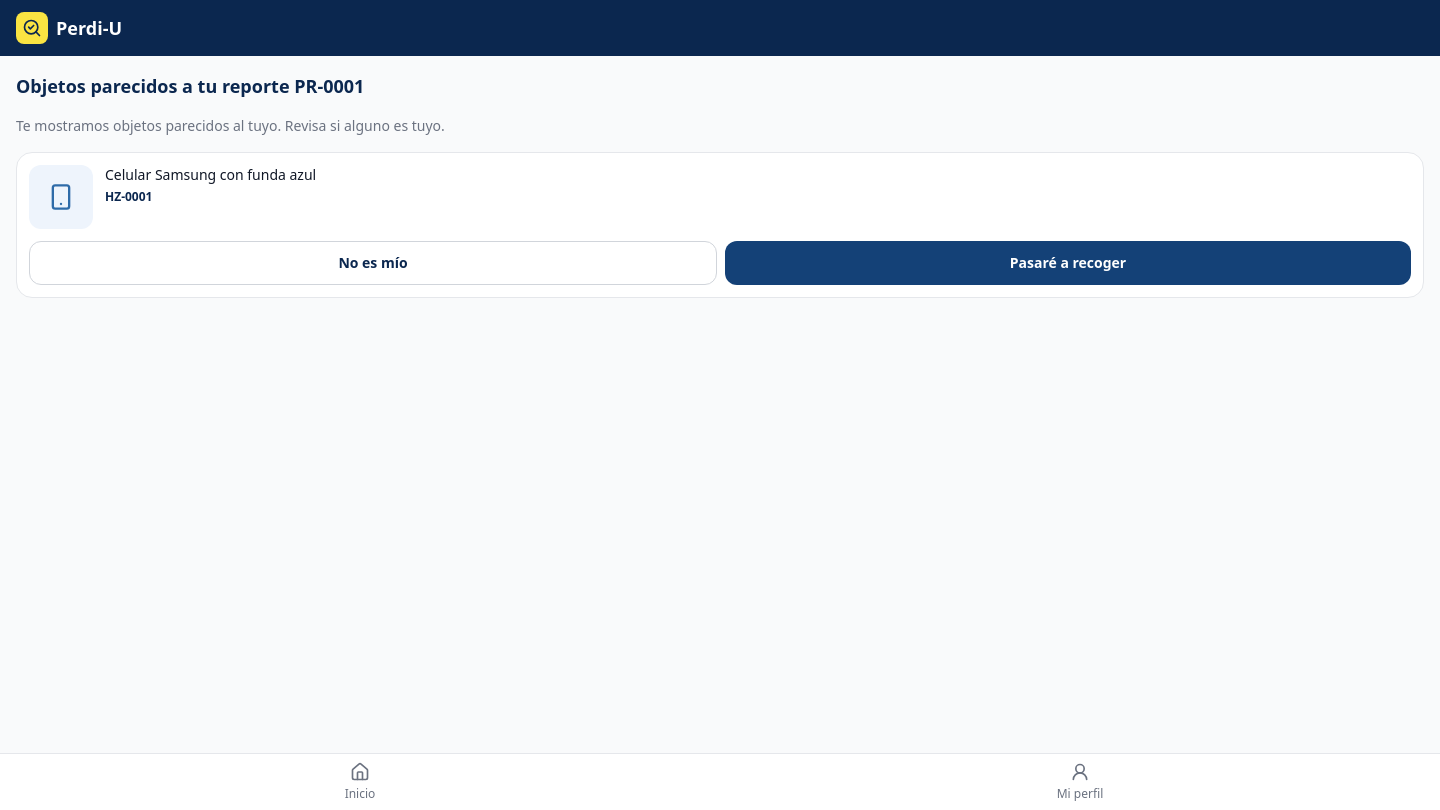
Test case: Navegación de la app › avisa a Bienestar al elegir "Pasaré a recoger" y lo muestra elegido
What coordinates should you click on to do the following:
click the button "Pasaré a recoger"
I would click on:
 (1068, 263)
Its box is [725, 241, 1411, 285].
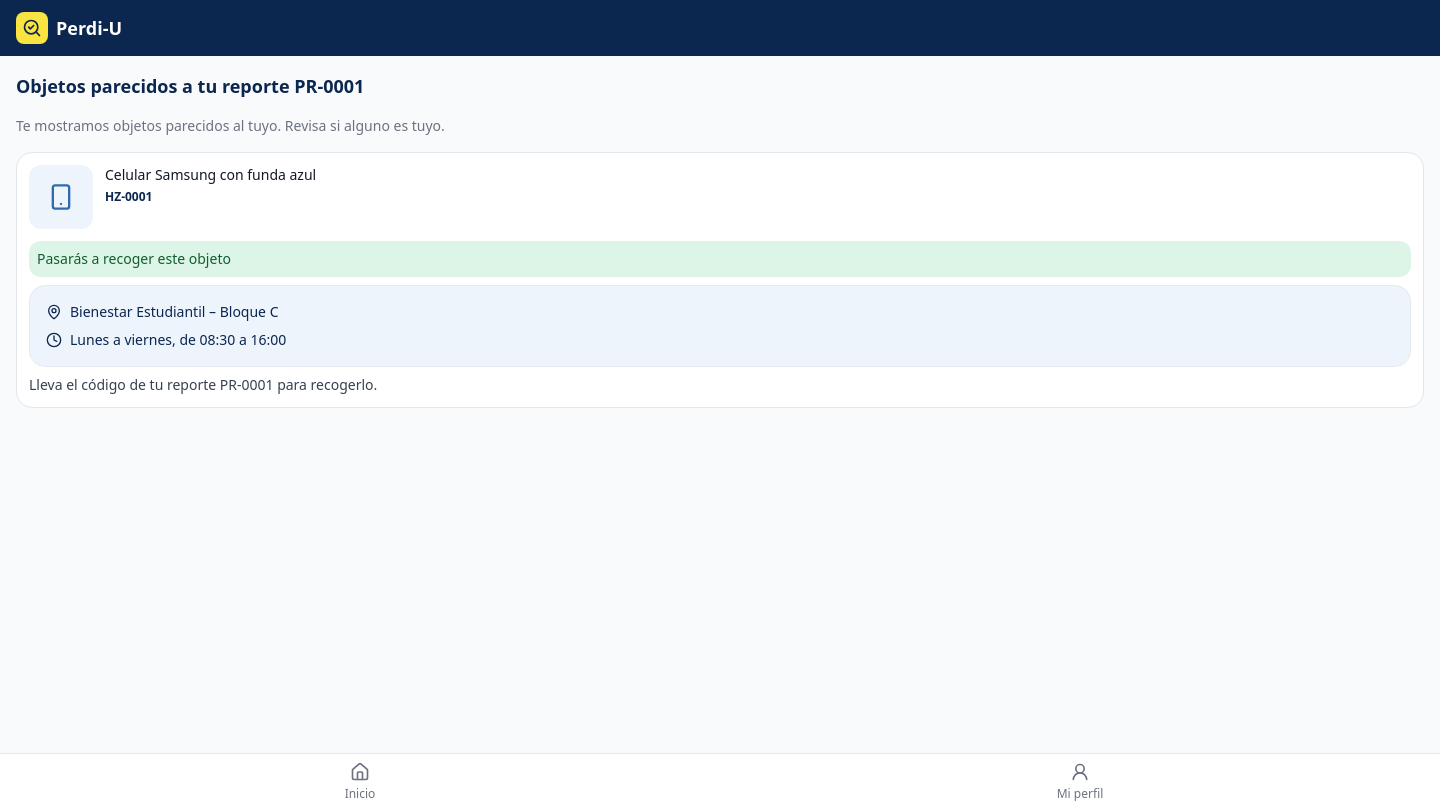
Expected: the text "Pasarás a recoger este objeto" is shown, [29, 241, 1411, 277]
